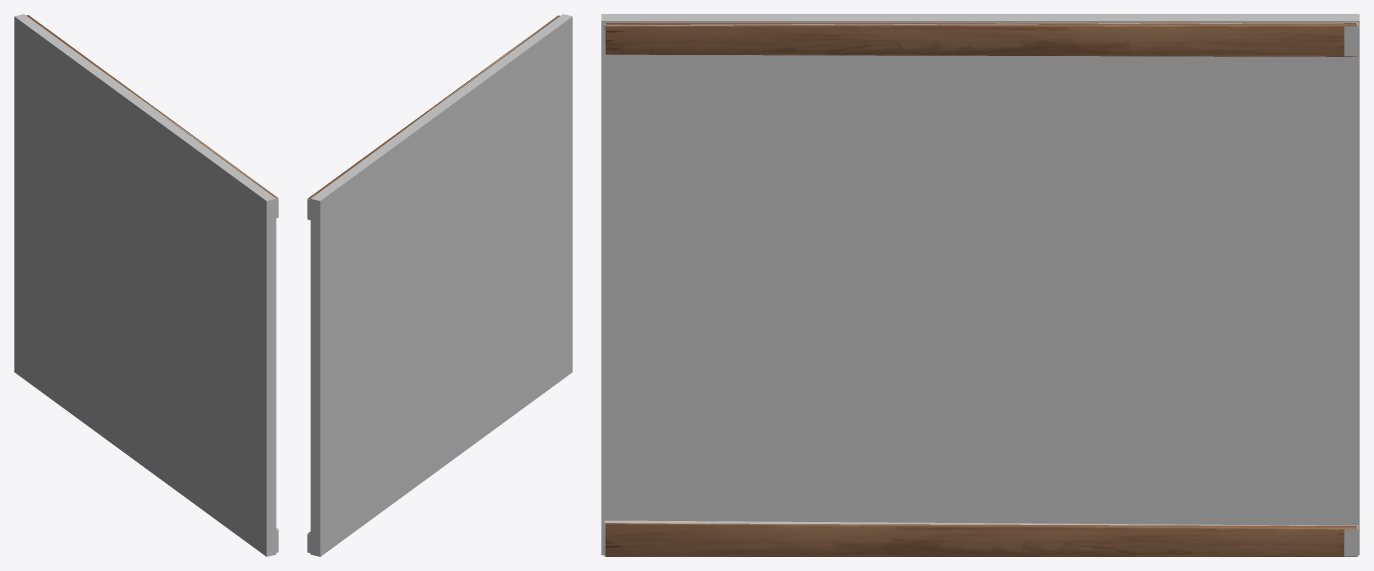
File: SM_Hangar01W_1.fbx
3 views of the same model, side by side, from view 1: azimuth 30°, elevation 25°; view 2: azimuth 150°, elevation 25°; view 3: azimuth 270°, elevation 25° (orthographic). The views are drawn at different scales.
Visible parts, largest first — view 1: SM_Hangar01W_1_ConvexHulls, SM_Hangar01W_1; view 2: SM_Hangar01W_1_ConvexHulls, SM_Hangar01W_1; view 3: SM_Hangar01W_1_ConvexHulls, SM_Hangar01W_1.
Boxes of the visible parts, left/top/right/bottom form: SM_Hangar01W_1_ConvexHulls: left=14, top=14, right=278, bottom=556; SM_Hangar01W_1: left=26, top=15, right=277, bottom=528; SM_Hangar01W_1_ConvexHulls: left=307, top=14, right=572, bottom=556; SM_Hangar01W_1: left=308, top=15, right=559, bottom=533; SM_Hangar01W_1_ConvexHulls: left=601, top=14, right=1359, bottom=556; SM_Hangar01W_1: left=605, top=23, right=1357, bottom=556.
Size of the model in its own units: 13.99 by 452 by 351.
Materials: 4 (3 with a texture image).
